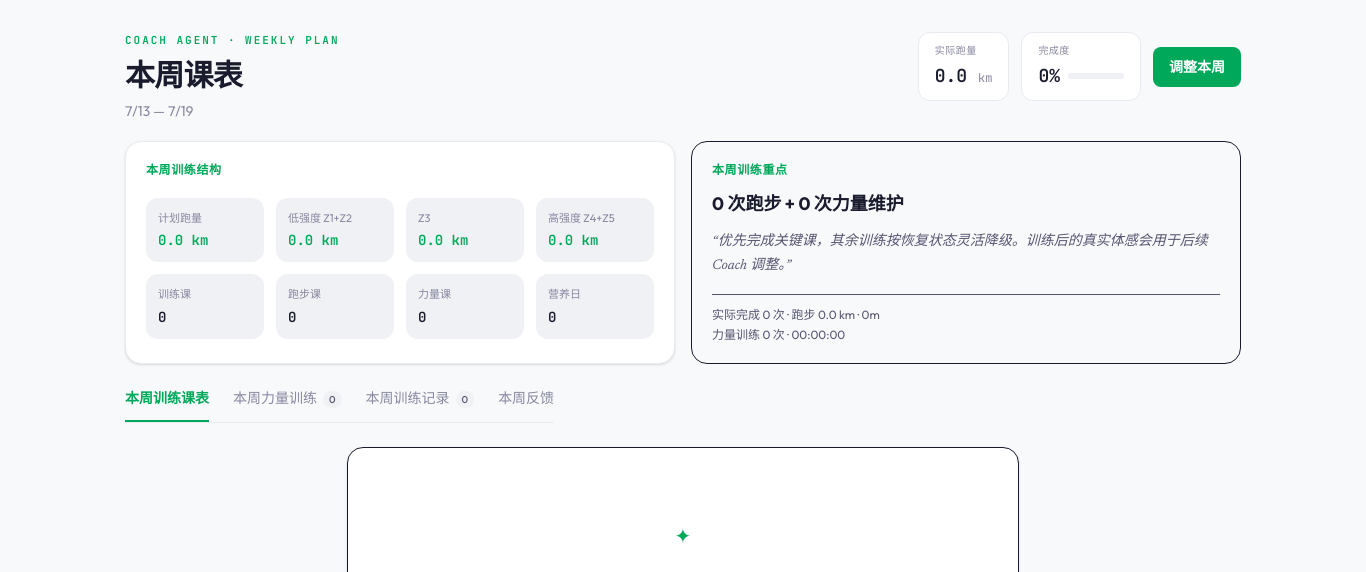
Test: CoachWeeklyPlanPage › keeps feedback available when the selected week has no plan
The image size is (1366, 572).
Expected: the heading "本周课表" is shown, [125,56,242,94]
Click the tab "本周反馈".
click(526, 404)  # box [498,388,554,422]
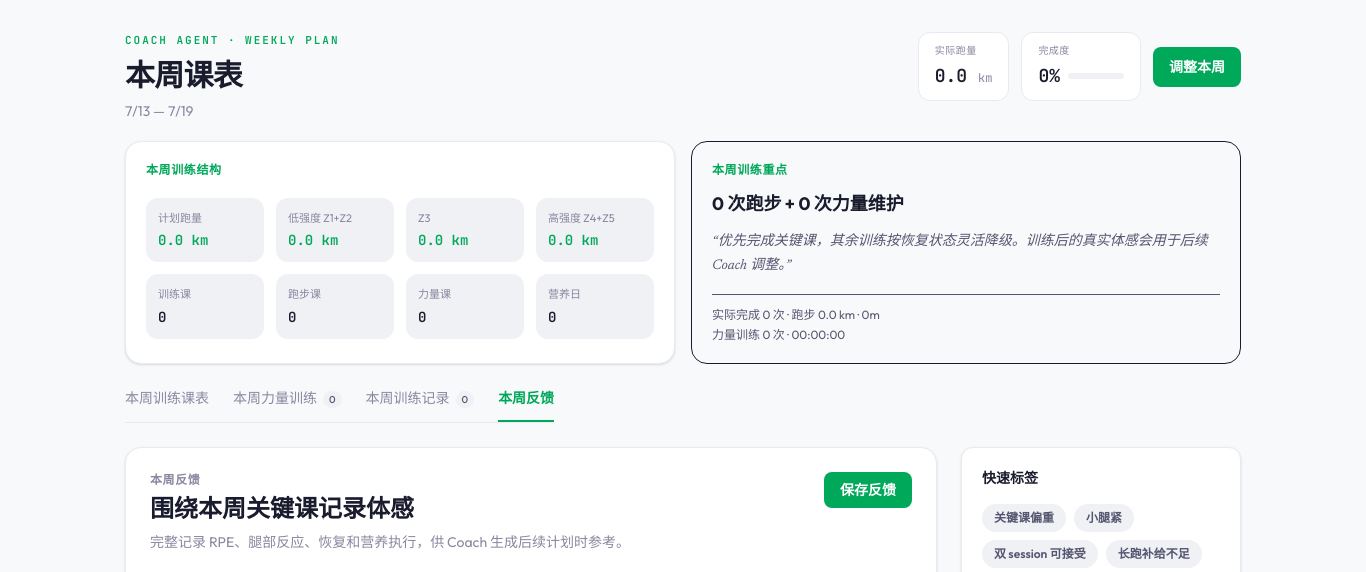
Expected: the heading "围绕本周关键课记录体感" is shown, [150,492,414,522]
